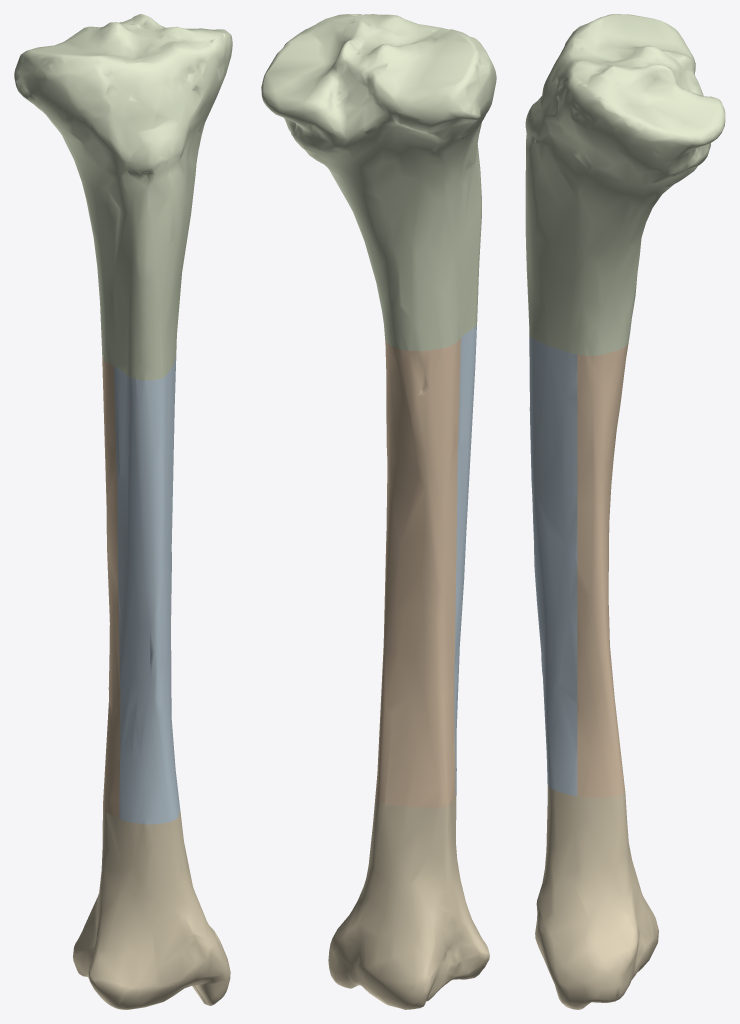
File: tibia_magnetic.glb
The picture shows the model from 3 angles, left to right: view 1: azimuth 30°, elevation 25°; view 2: azimuth 150°, elevation 25°; view 3: azimuth 270°, elevation 25°; orthographic projection. The views are drawn at different scales.
Parts seen in each view (by area): view 1: 04_Верхняя_секция, 02_Средняя_половина_A, 01_Нижняя_секция, 03_Средняя_половина_B; view 2: 04_Верхняя_секция, 03_Средняя_половина_B, 01_Нижняя_секция, 02_Средняя_половина_A; view 3: 04_Верхняя_секция, 01_Нижняя_секция, 02_Средняя_половина_A, 03_Средняя_половина_B.
Part boxes in pixels (box(x1,y1,x2,y2)): 04_Верхняя_секция: box(14, 14, 232, 380); 02_Средняя_половина_A: box(114, 356, 180, 824); 01_Нижняя_секция: box(73, 809, 230, 1009); 03_Средняя_половина_B: box(102, 356, 171, 818); 04_Верхняя_секция: box(261, 14, 496, 350); 03_Средняя_половина_B: box(375, 335, 460, 807); 01_Нижняя_секция: box(328, 792, 489, 1009); 02_Средняя_половина_A: box(454, 324, 476, 795); 04_Верхняя_секция: box(525, 14, 725, 355); 01_Нижняя_секция: box(535, 785, 658, 1009); 02_Средняя_половина_A: box(529, 336, 577, 795); 03_Средняя_половина_B: box(577, 342, 628, 797).
Bounding box in the file's own units: 0.0879 × 0.4 × 0.0774.
